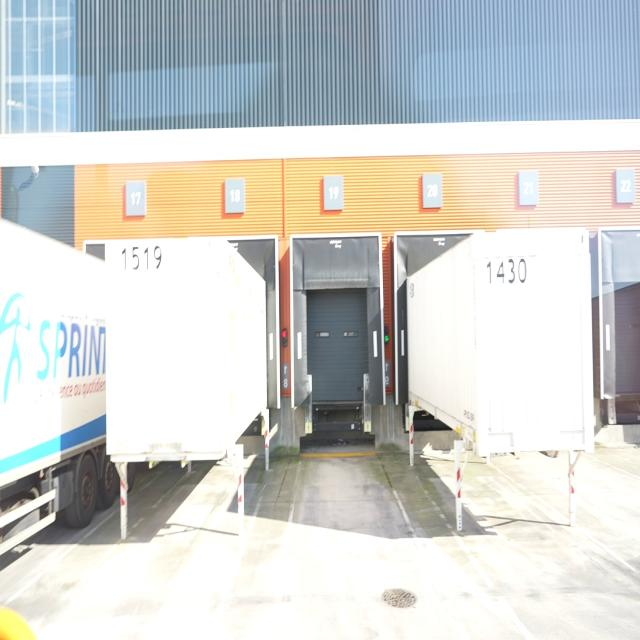Code: (482, 250, 530, 294), (119, 238, 164, 276)
